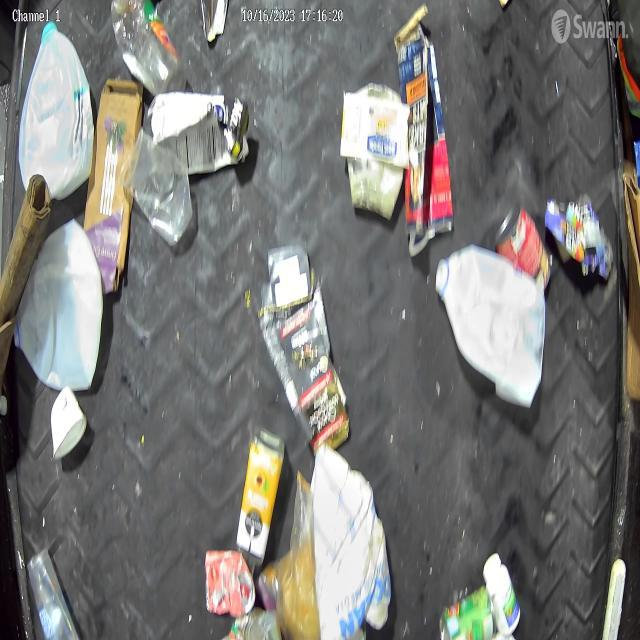can: (494, 204, 552, 294), (200, 545, 257, 615), (438, 587, 500, 640)
milk_jug: (434, 246, 544, 414), (309, 442, 393, 640), (17, 215, 104, 392), (18, 25, 92, 204)
plastic_bottle: (108, 0, 182, 94)
